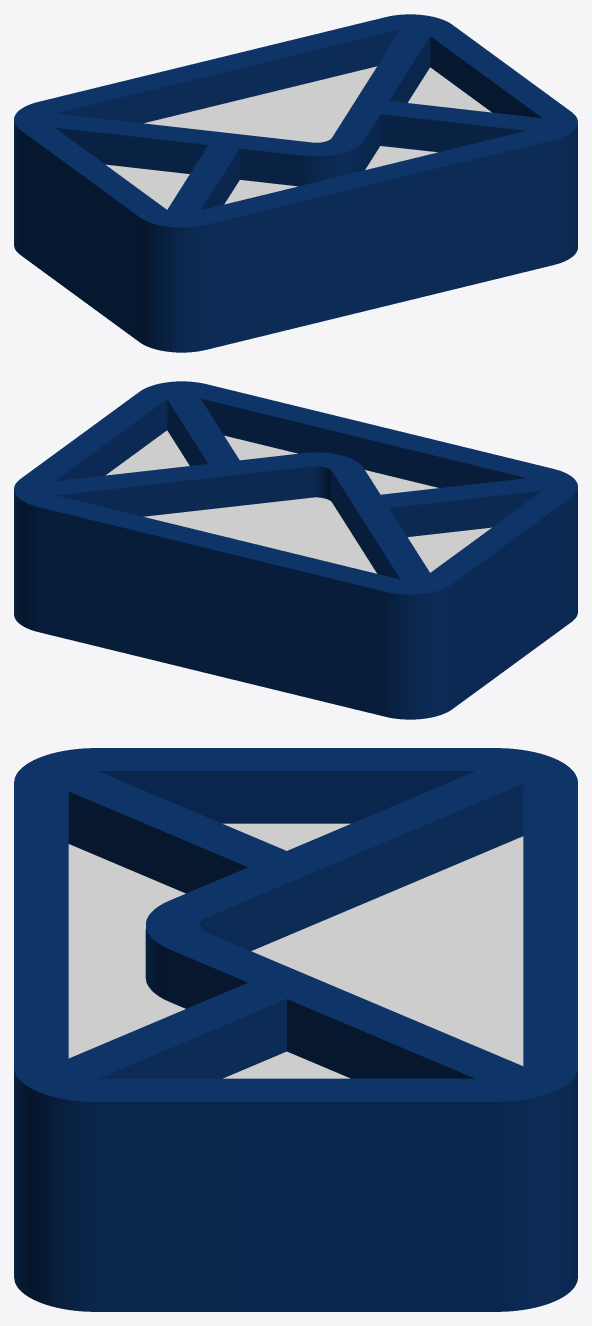
The model's file is letter.fbx.
3 views of the same model, one above another, from view 1: azimuth 30°, elevation 25°; view 2: azimuth 150°, elevation 25°; view 3: azimuth 270°, elevation 25° (orthographic). The views are drawn at different scales.
Visible parts, largest first — view 1: Curve.004; view 2: Curve.004; view 3: Curve.004.
Part boxes in pixels (bbox=[...]): Curve.004: bbox=[14, 14, 577, 352]; Curve.004: bbox=[14, 381, 577, 719]; Curve.004: bbox=[14, 748, 577, 1311].
Size of the model in its own units: 14.45 by 4 by 9.73.
